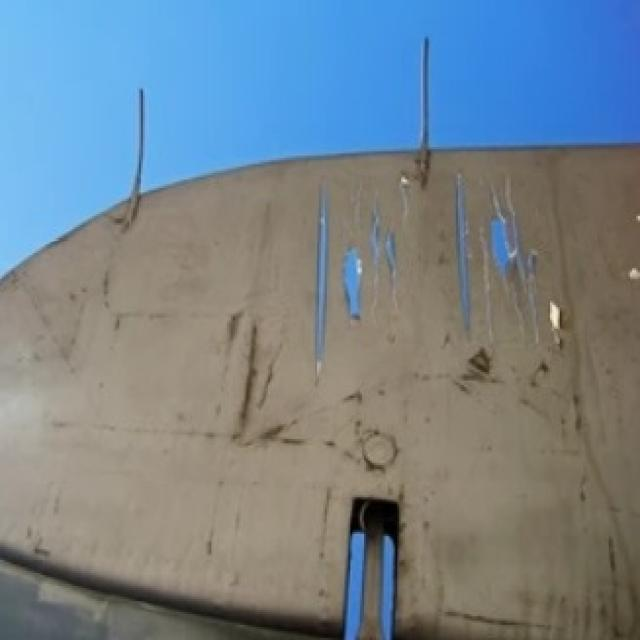Crack: (309, 175, 544, 385)
